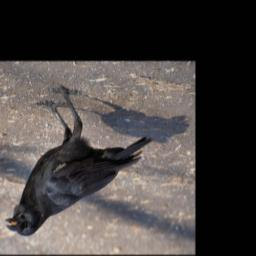Crow: (5, 85, 152, 238)
